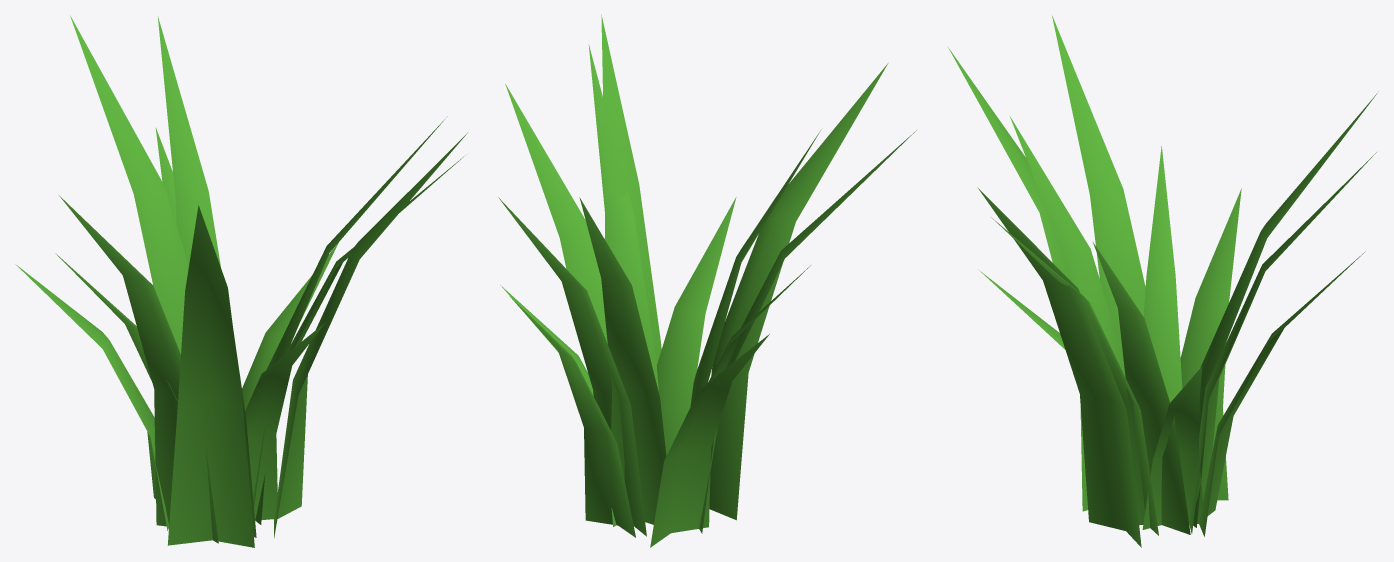
File: grass_clump.glb
3 renders of one model, left to right at view 1: azimuth 30°, elevation 25°; view 2: azimuth 150°, elevation 25°; view 3: azimuth 270°, elevation 25°, orthographic. The views are drawn at different scales.
Parts seen in each view (by area): view 1: body; view 2: body; view 3: body.
Boxes of the visible parts, x1=… form: body: x1=15, y1=15, x2=467, y2=547; body: x1=498, y1=14, x2=916, y2=547; body: x1=947, y1=15, x2=1378, y2=547.
Bounding box in the file's own units: 0.5003 × 0.4957 × 0.4768.
